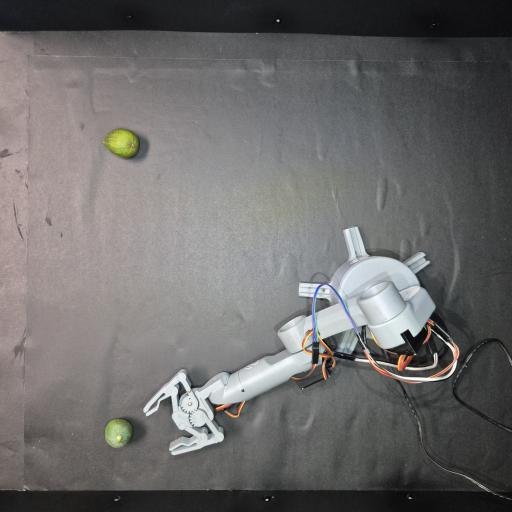higo: (103, 129, 139, 158), (105, 419, 132, 447)
